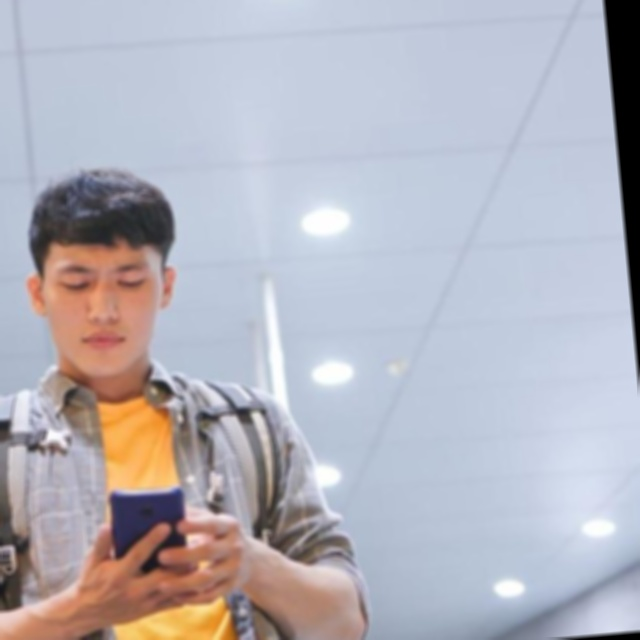Sin_Casco_Mascarrilla: (16, 164, 186, 379)
Sin_Chaleco: (0, 359, 314, 640)
